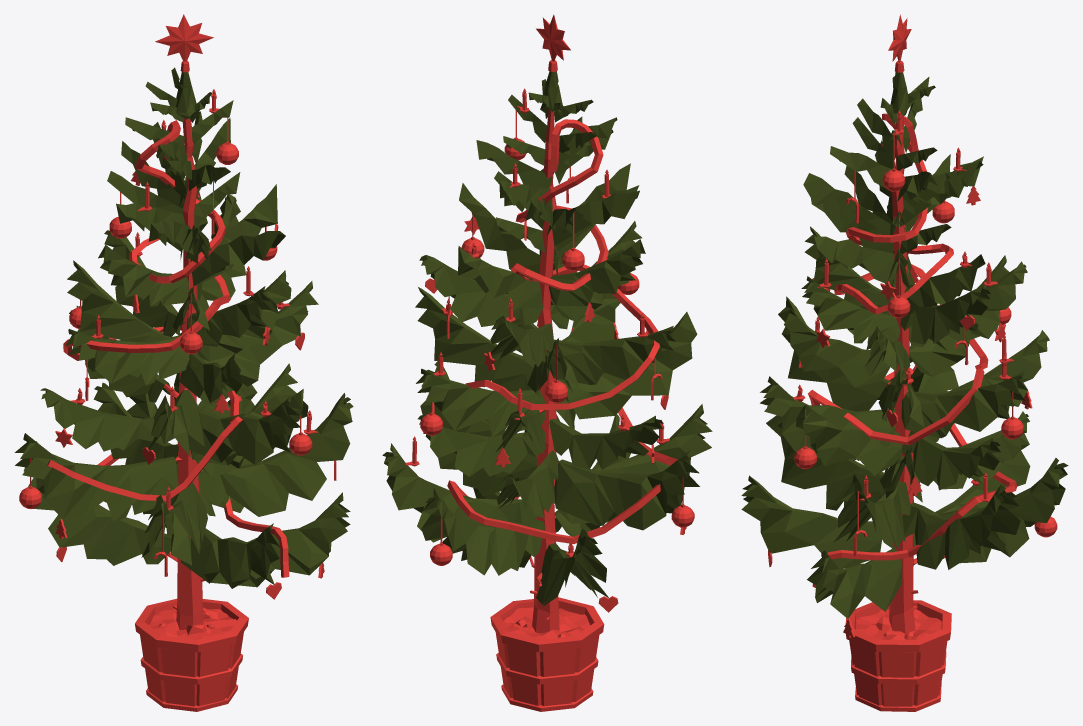
File: SM_Tree_Christmass.fbx
3 views of the same model, side by side, from view 1: azimuth 30°, elevation 25°; view 2: azimuth 150°, elevation 25°; view 3: azimuth 270°, elevation 25° (orthographic).
Parts seen in each view (by area): view 1: tree-christmass; view 2: tree-christmass; view 3: tree-christmass.
Boxes of the visible parts, x1,y1,x2,y2 form: tree-christmass: (14, 14, 353, 711); tree-christmass: (382, 14, 712, 711); tree-christmass: (741, 14, 1068, 711).
Size of the model in its own units: 1.24 by 2.65 by 1.16.
